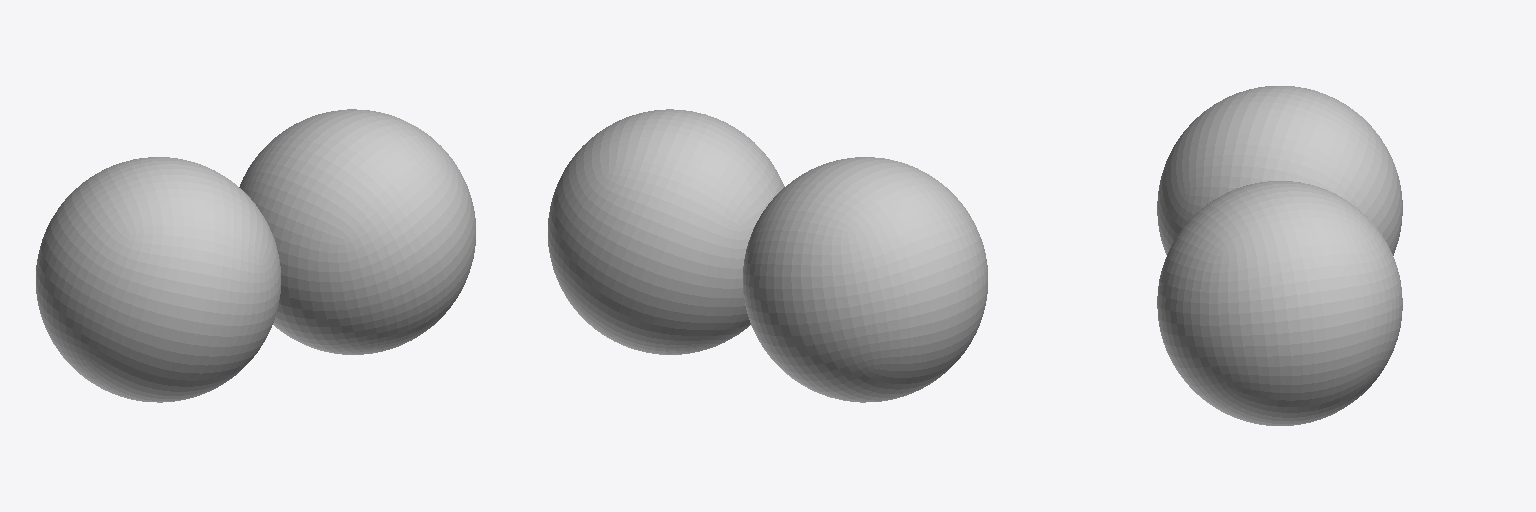
The model's file is eyeballs.obj.
The picture shows the model from 3 angles: view 1: azimuth 30°, elevation 25°; view 2: azimuth 150°, elevation 25°; view 3: azimuth 270°, elevation 25°; orthographic projection.
Visible parts, largest first — view 1: eyeballs:eyeballs group; view 2: eyeballs:eyeballs group; view 3: eyeballs:eyeballs group.
Part boxes in pixels (x1,y1,x2,y2): eyeballs:eyeballs group: (36,109,475,402); eyeballs:eyeballs group: (548,109,987,402); eyeballs:eyeballs group: (1157,86,1402,425).
Size of the model in its own units: 1.1 by 0.5723 by 0.572.